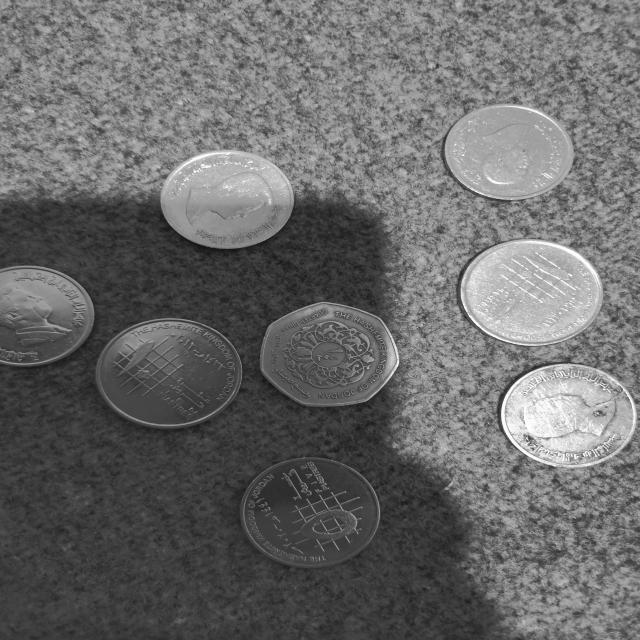10-coins: (94, 320, 244, 428), (459, 240, 608, 347)
25-coins: (256, 300, 402, 406)
5-coins: (236, 455, 381, 568), (496, 362, 636, 470), (156, 149, 298, 251), (440, 104, 579, 202), (0, 266, 97, 368)
